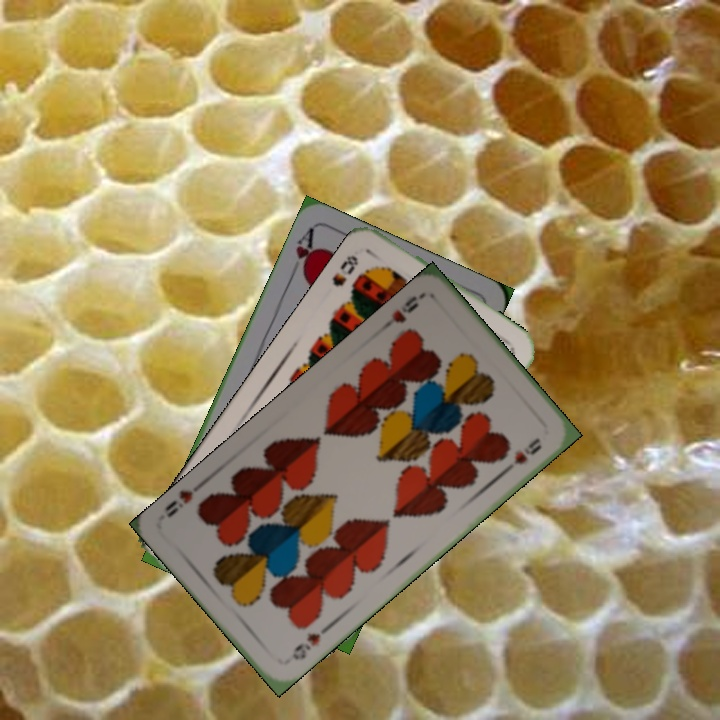H9: (377, 289, 427, 333), (288, 627, 323, 663)
HA: (286, 225, 319, 281)
S8: (327, 251, 361, 289)
